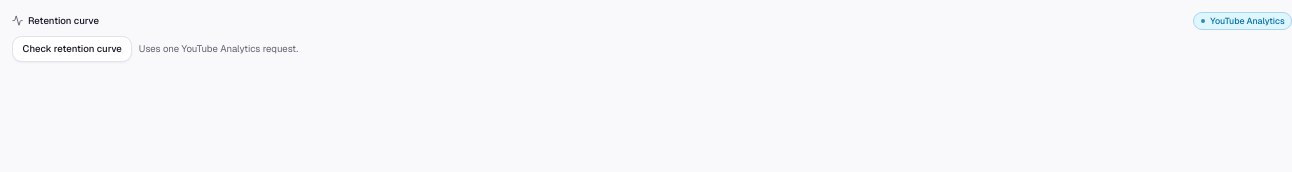
RetentionProbe when the linked video changes › does not show a late response for link 5 after switching to link 6
This screenshot has width=1292, height=172.
Later steps or results of the test are not shown.
Click the button "Check retention curve" at [72, 49], box x1=12 y1=36 x2=132 y2=62
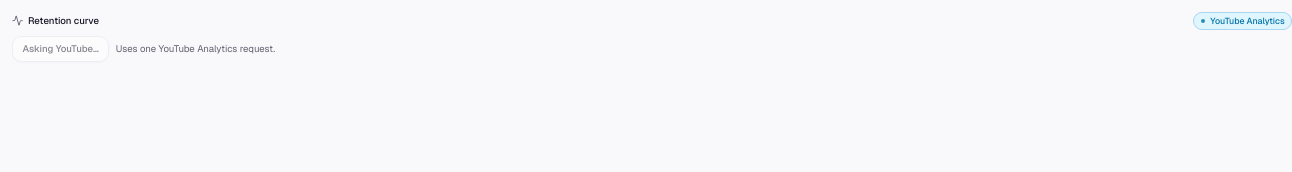
Expected: the button "Asking YouTube…" is disabled, x1=12 y1=36 x2=109 y2=62
